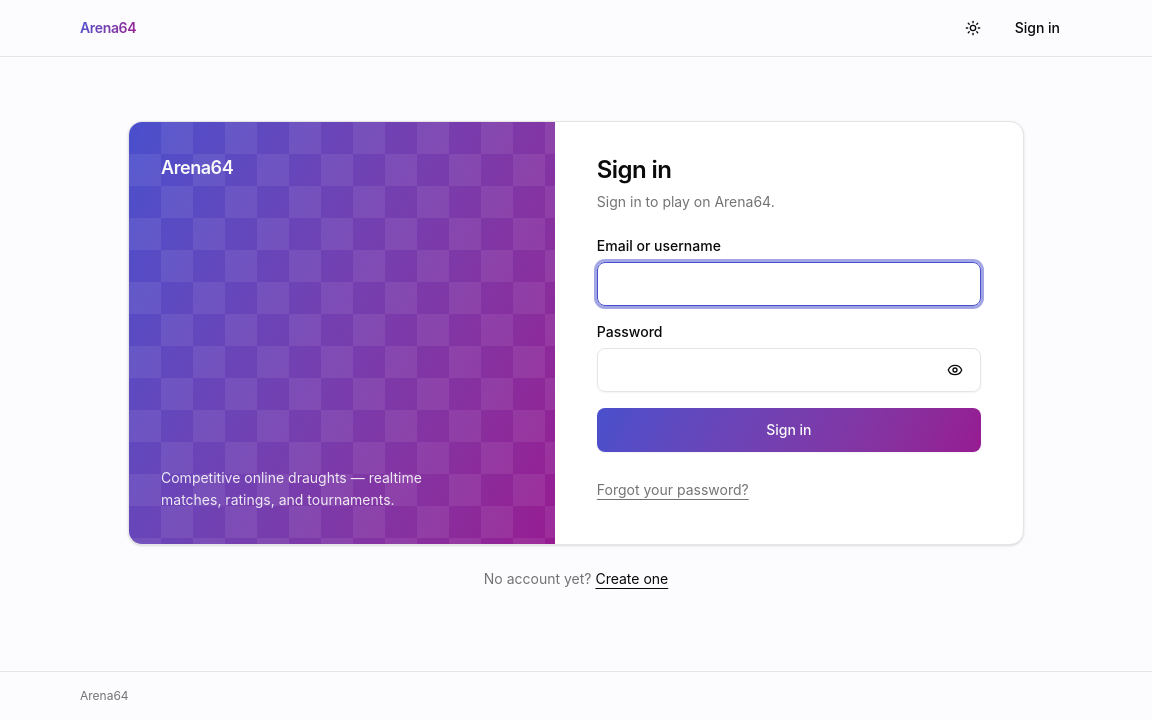
Scenario: an answer about an account that is no longer signed in › cannot release the subscription of the account signed in now
This screenshot has width=1152, height=720.
In the field labelled "Email or username": (789, 284) [597,262,981,306], type "bob"
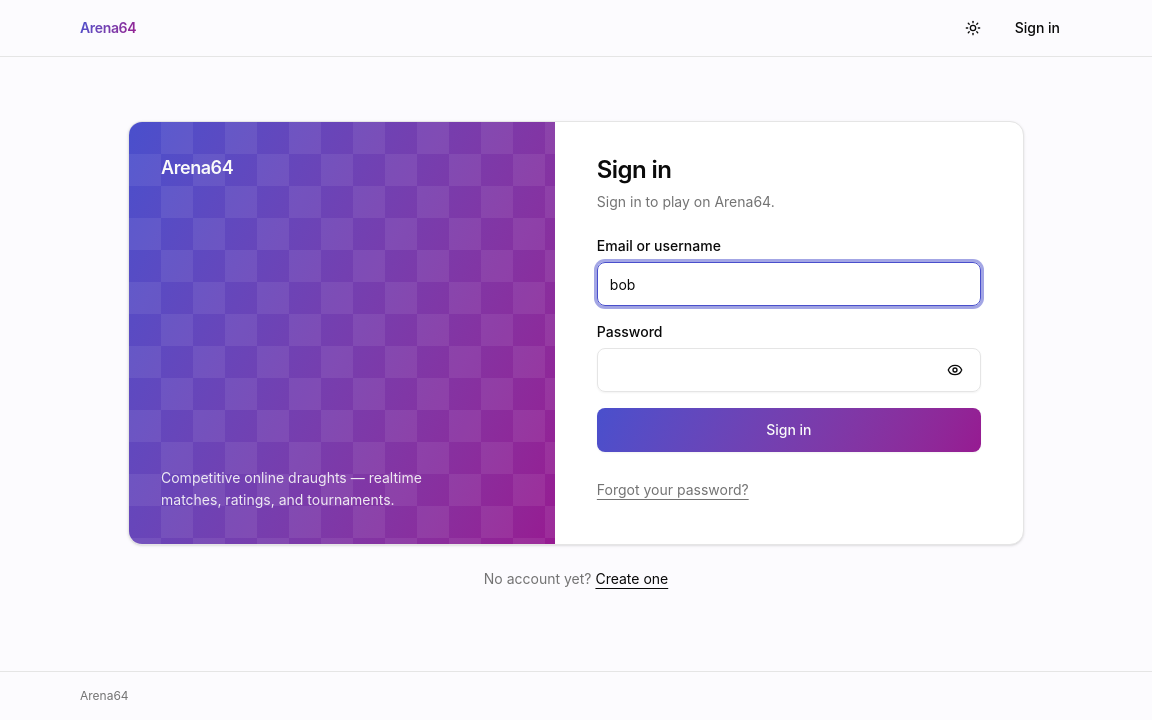
In the password field labelled "Password": (789, 370) [597,348,981,392], type "x"
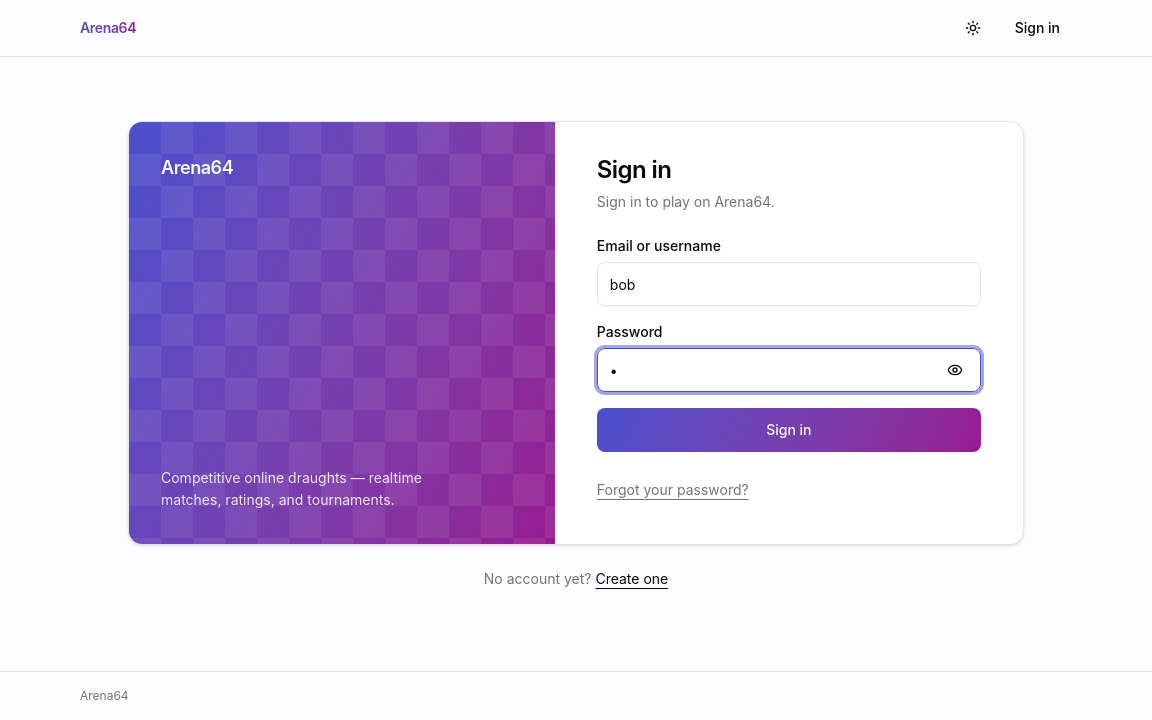
Click the button "Sign in": (789, 430) [597,408,981,452]
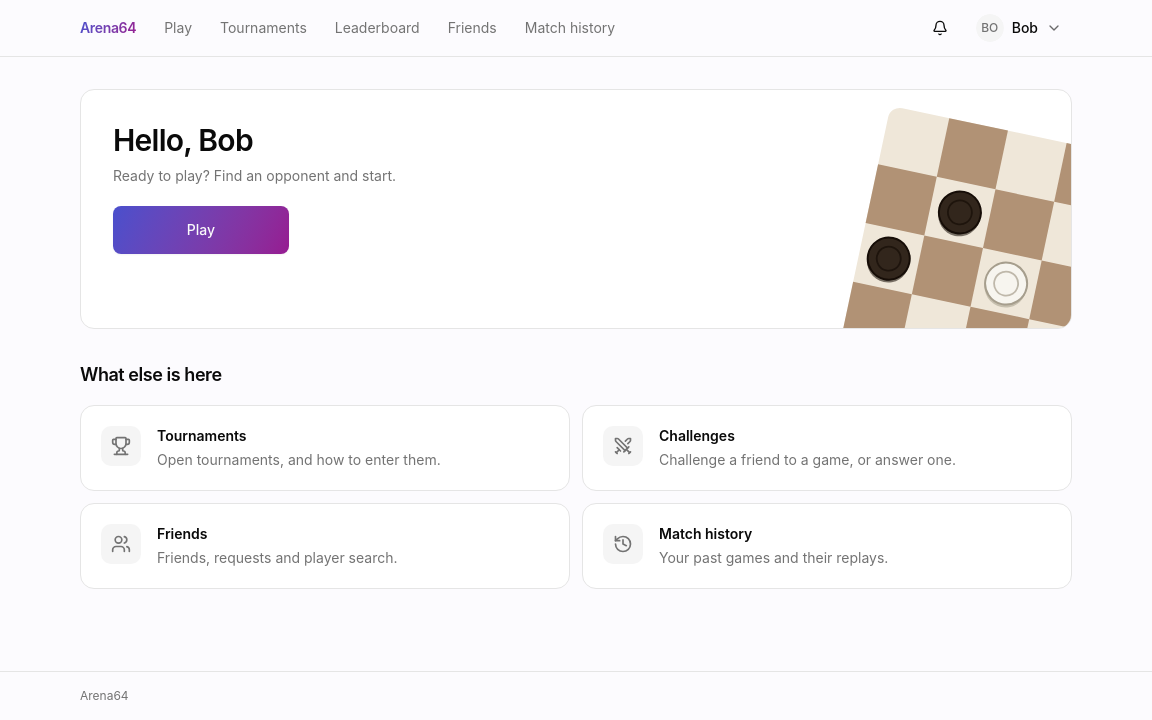
Result: the text "Bob" is shown at [1012,18,1038,38]
